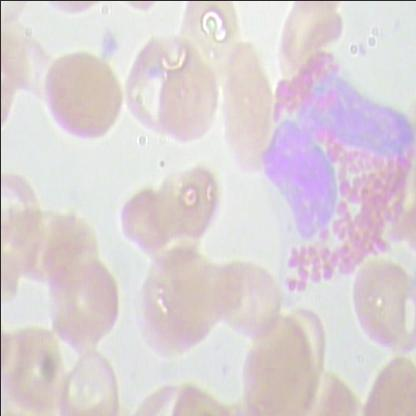Platelets: (95, 28, 124, 60)
RBC: (134, 246, 230, 362), (211, 37, 280, 176), (235, 323, 330, 415), (43, 252, 127, 352), (38, 52, 131, 142), (343, 259, 415, 372), (206, 258, 288, 342), (153, 60, 219, 148), (174, 1, 240, 87), (46, 351, 133, 415), (112, 184, 178, 264), (158, 165, 224, 245), (38, 218, 104, 298), (275, 1, 342, 79), (355, 353, 415, 415), (162, 380, 239, 415)
WBC: (258, 50, 415, 315)
